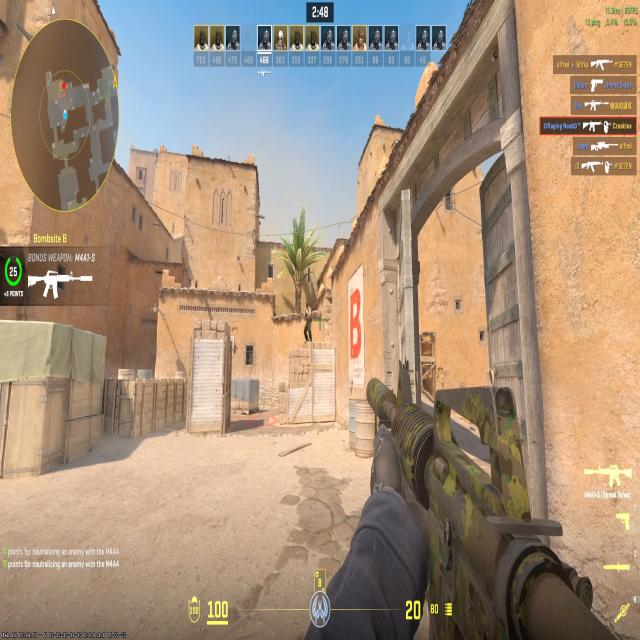player: (302, 298, 314, 346)
